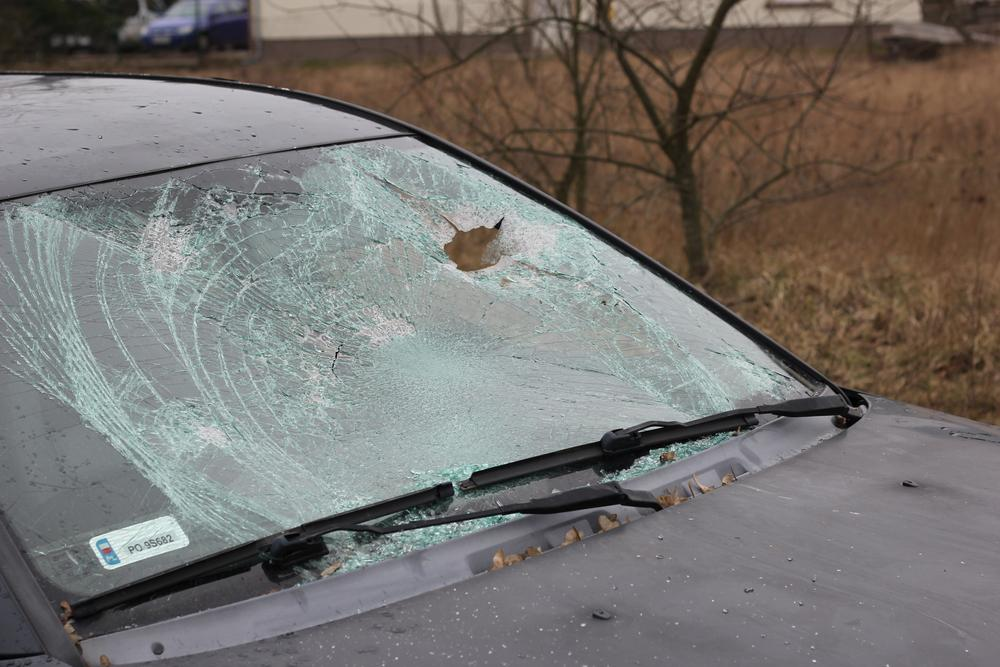glass shatter: (0, 135, 824, 641)
